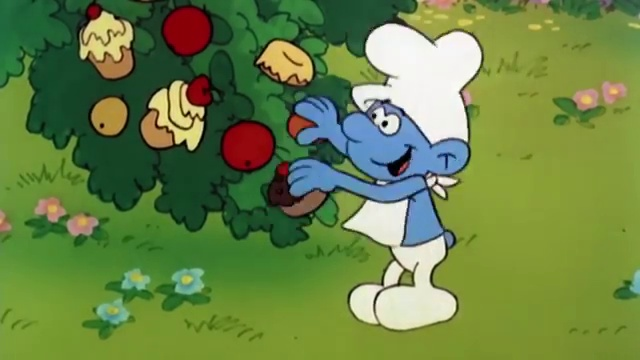smurf: (287, 21, 483, 334)
